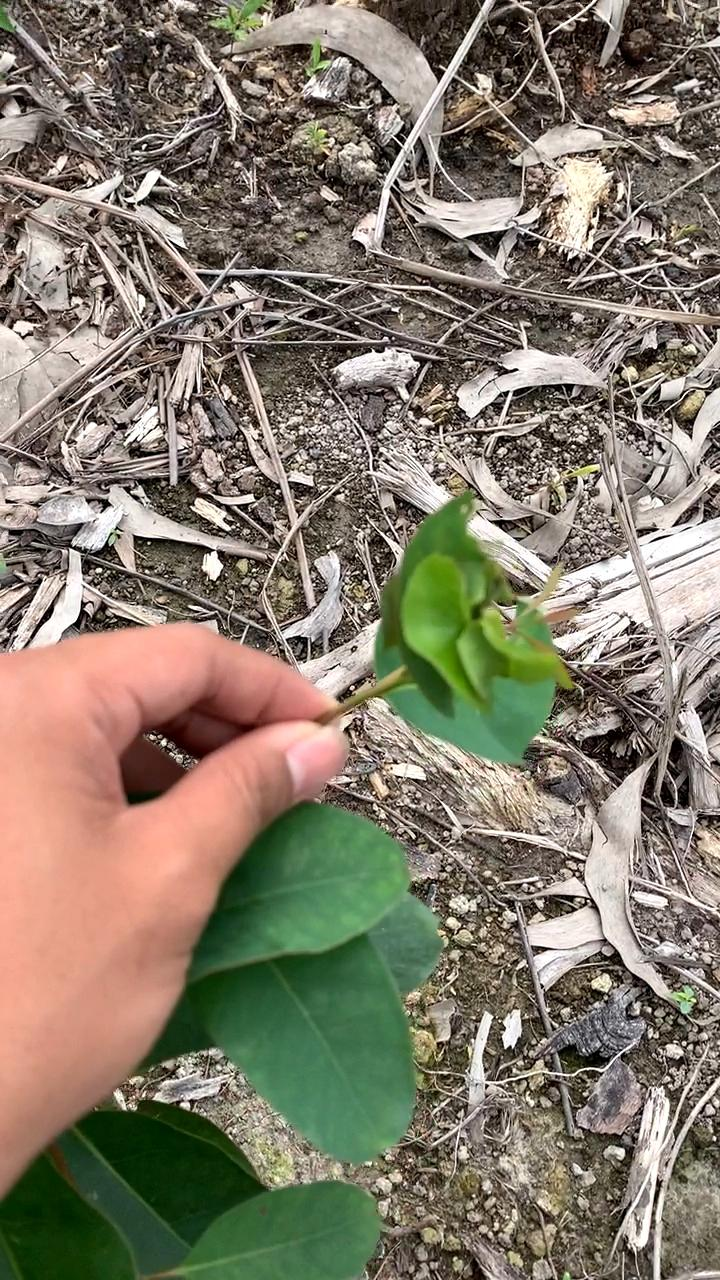Leaf Roller - Leaf: (376, 476, 577, 753)
